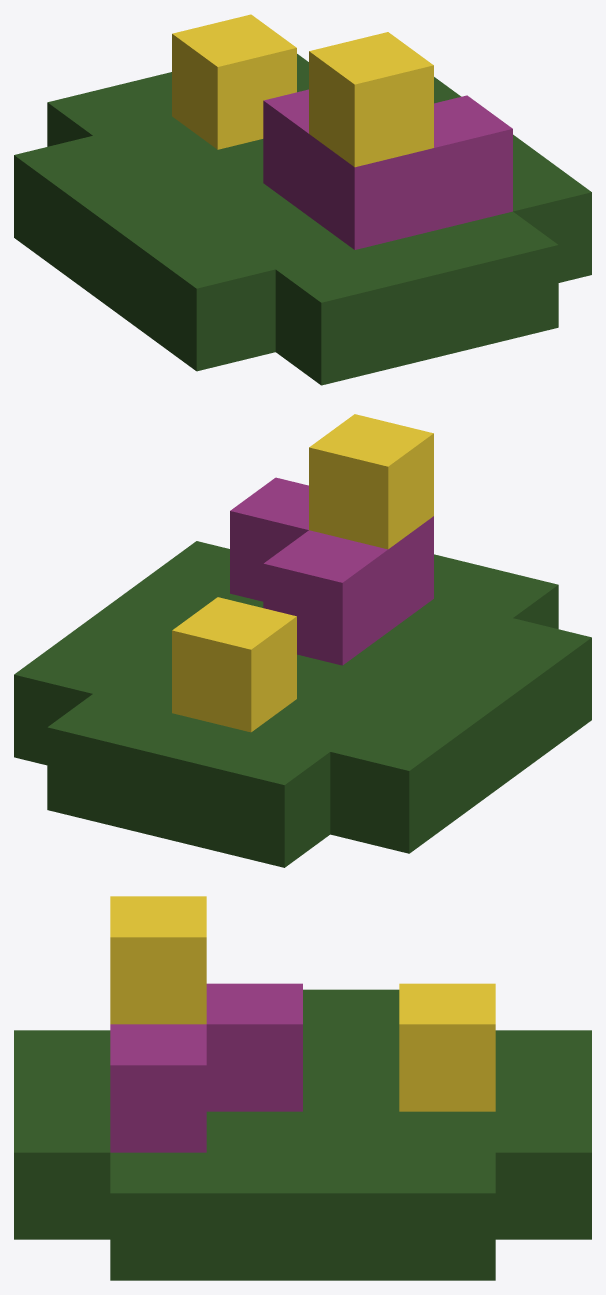
Rendered from Mini-Oasis-Del-Desierto-3.obj.
3 renders of one model, top to bottom at view 1: azimuth 30°, elevation 25°; view 2: azimuth 150°, elevation 25°; view 3: azimuth 270°, elevation 25°, orthographic. The views are drawn at different scales.
Size of the model in its own units: 0.5 by 0.3 by 0.6.
Materials: 1 (1 with a texture image).
